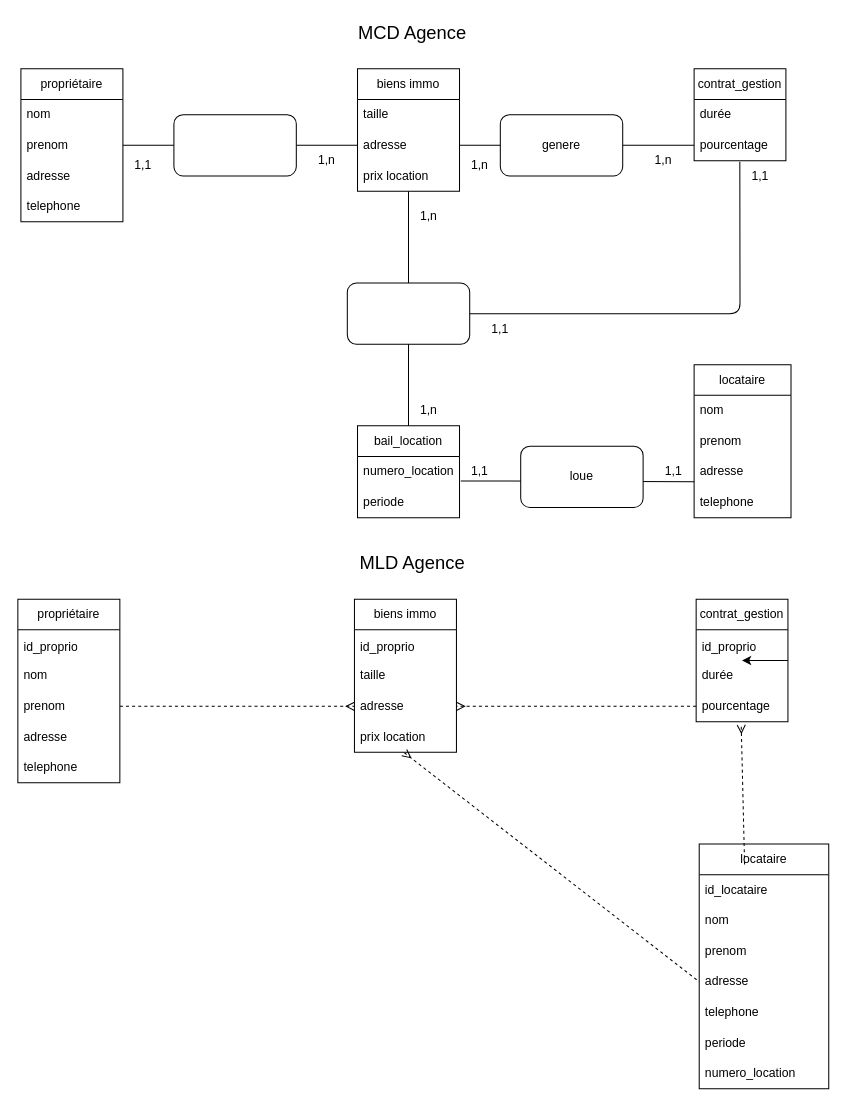
This 847x1107 diagram has some shape labels left out. The shapes that lost their labels are listed below. From the top down, each one's centre as x and y in pixels, then its label:
pixel 234 145: met en gestion
pixel 408 313: mise en location
